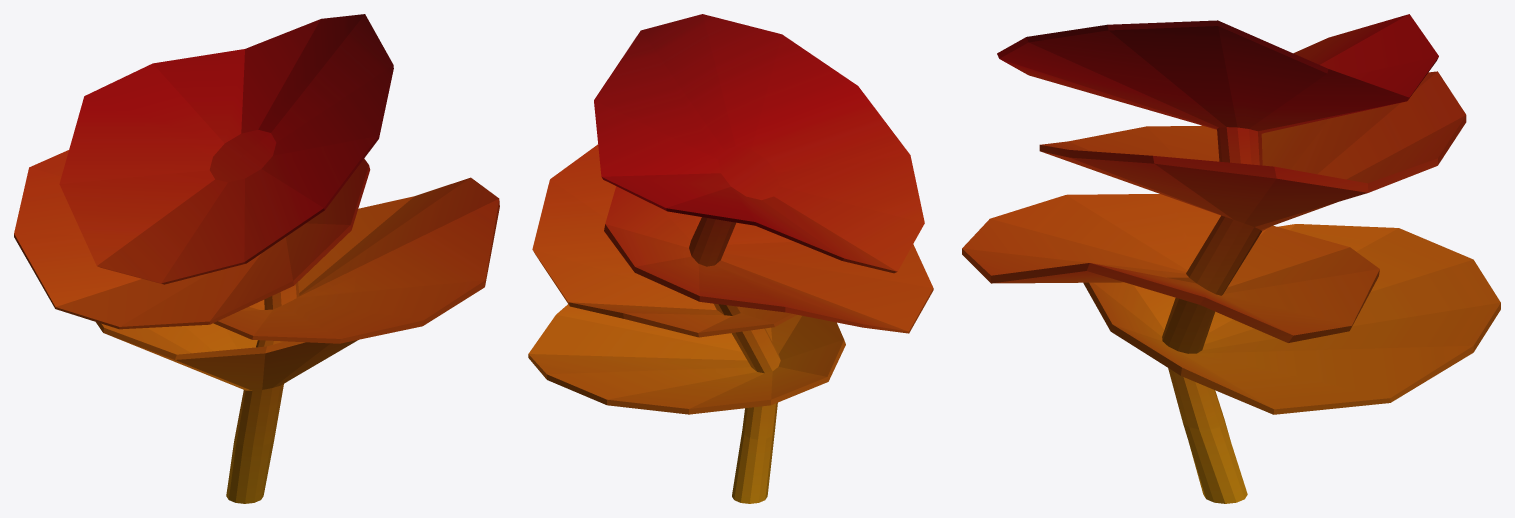
File: tree_04.fbx
3 views of the same model, side by side, from view 1: azimuth 30°, elevation 25°; view 2: azimuth 150°, elevation 25°; view 3: azimuth 270°, elevation 25° (orthographic). The views are drawn at different scales.
Parts seen in each view (by area): view 1: tree_04; view 2: tree_04; view 3: tree_04.
Boxes of the visible parts, bbox=[...] form: tree_04: bbox=[14, 14, 499, 503]; tree_04: bbox=[528, 14, 933, 503]; tree_04: bbox=[962, 14, 1500, 503].
Bounding box in the file's own units: 169 × 187 × 168.
